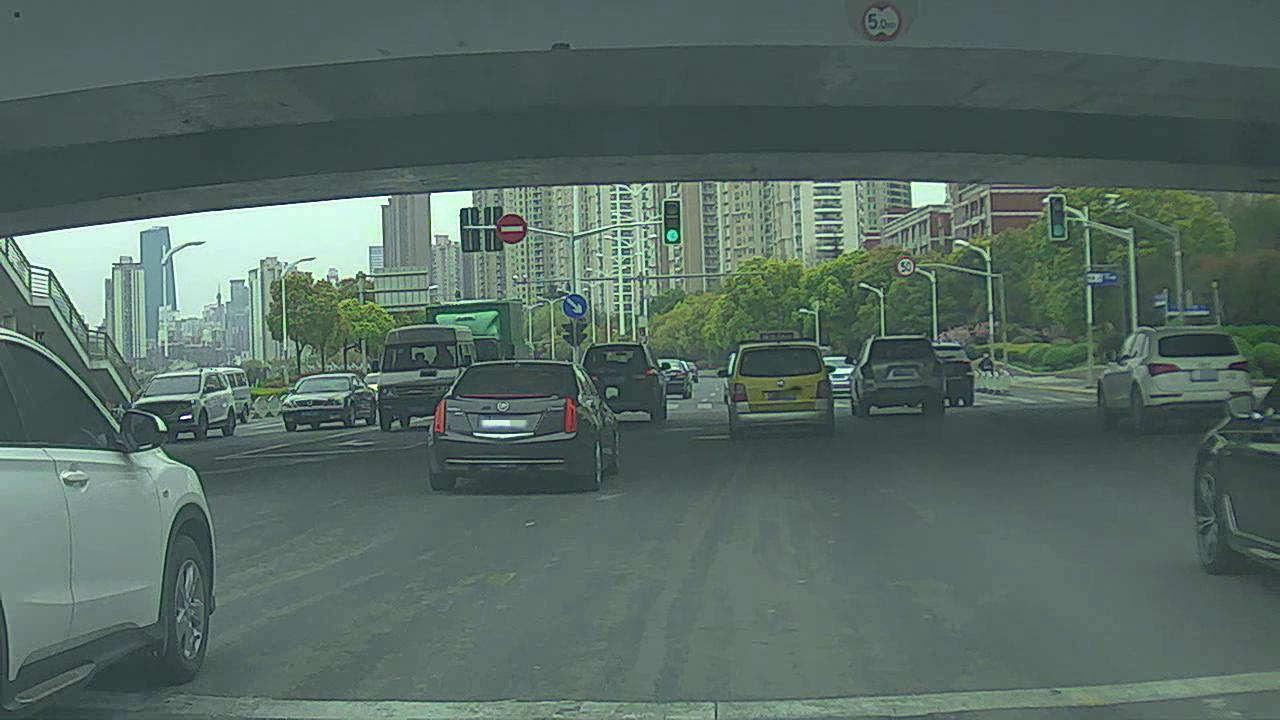traffic_light: (662, 201, 685, 246), (1048, 193, 1065, 240)
